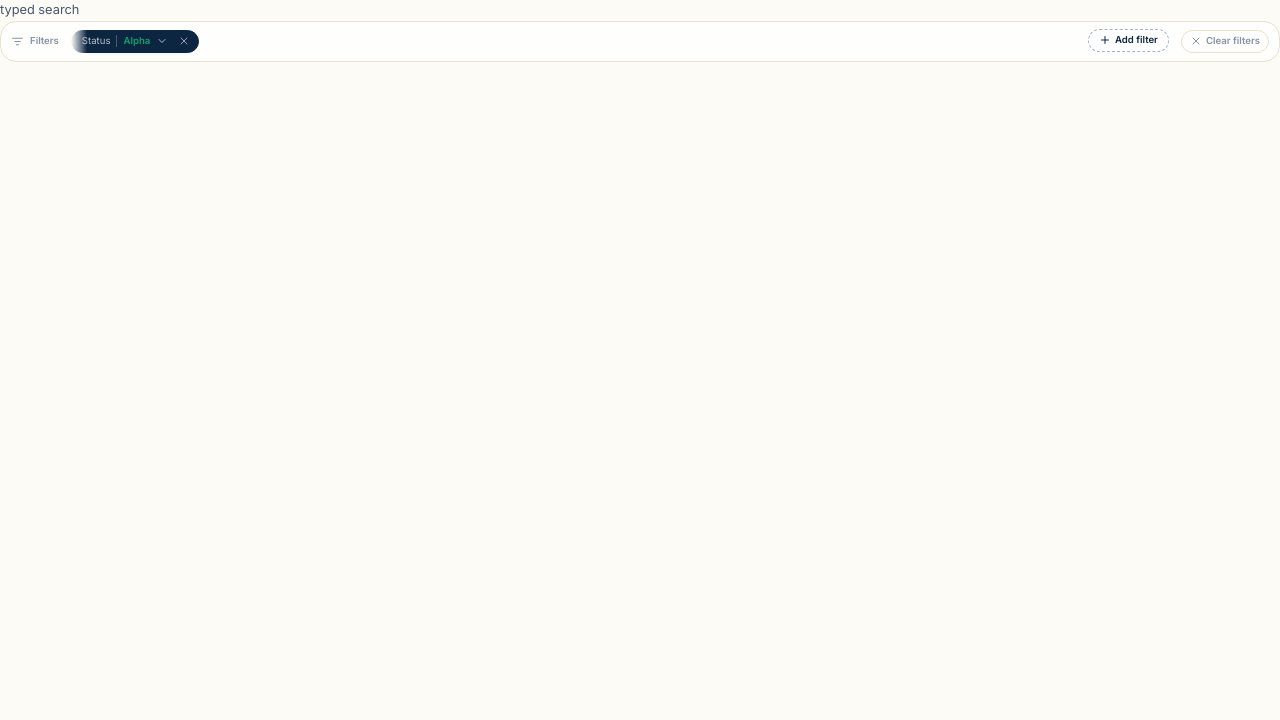
Test: FilterBar › Add filter lists only unfiltered columns and opens that kind's panel
Click the button "Add filter" at (1128, 40), box [1088,29,1169,52]
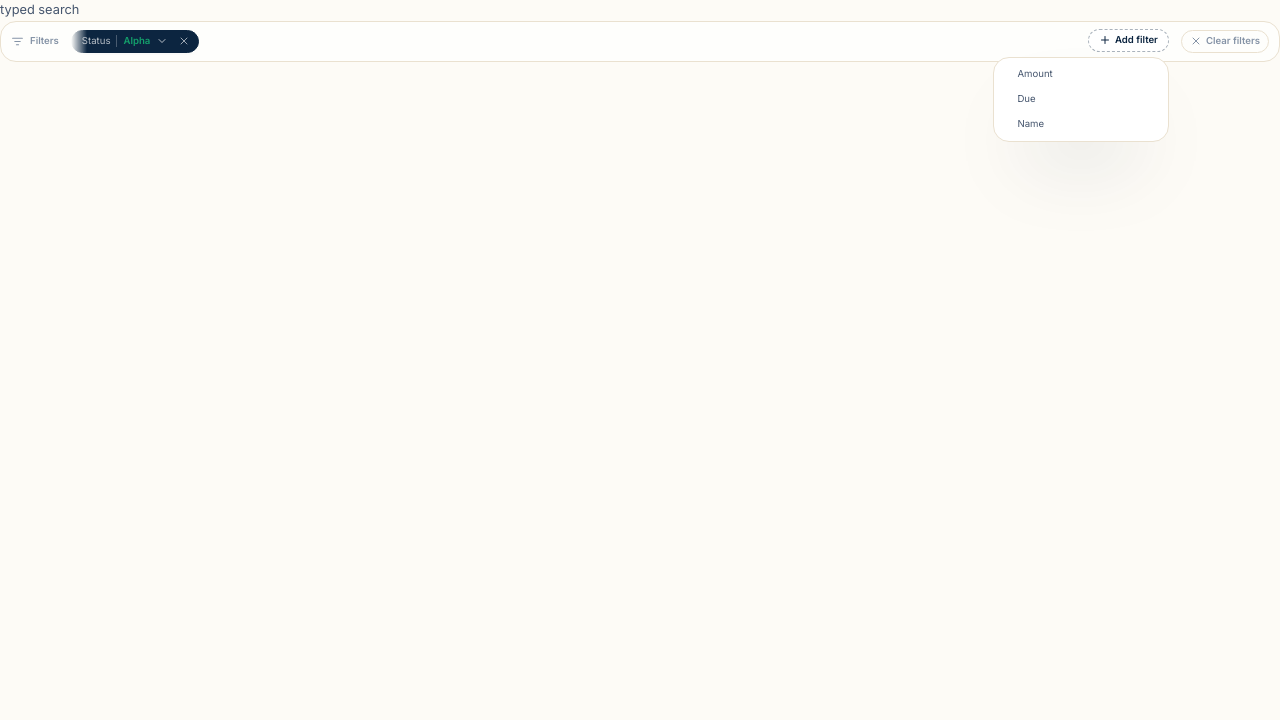
Now the menu items read "Amount", "Due", "Name", in this order
Click the menu item "Name" at (1087, 124), box [1005,112,1168,137]
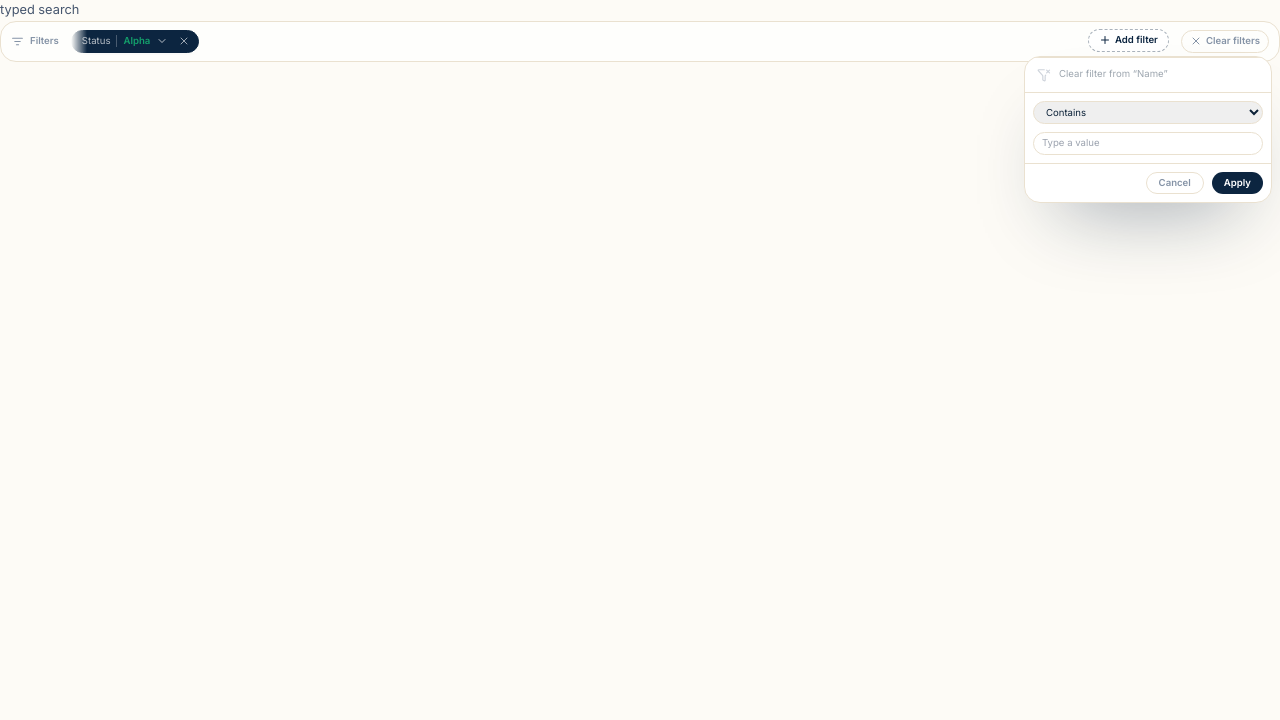
Now the field named "Name contains" is shown, box [1033,132,1263,155]
